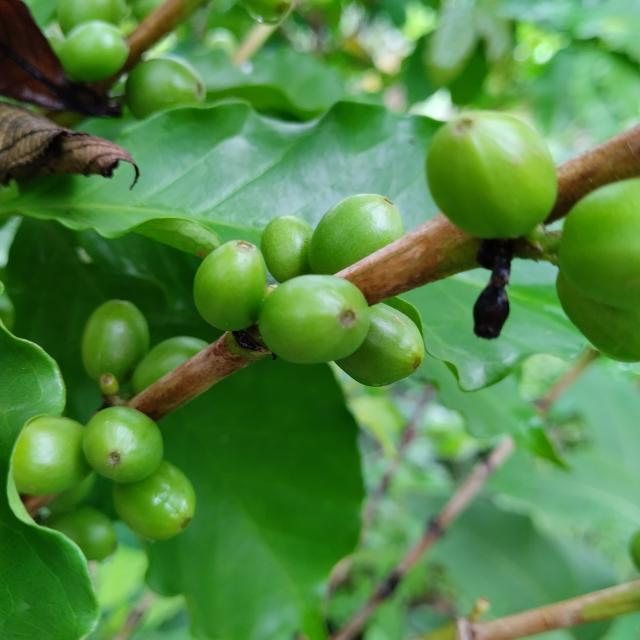green: (427, 110, 558, 238), (560, 178, 640, 309), (258, 275, 370, 364), (309, 193, 404, 274), (336, 303, 425, 387), (557, 272, 640, 362), (193, 240, 266, 331), (112, 461, 195, 541), (12, 416, 90, 496), (82, 406, 163, 483), (82, 406, 163, 483), (81, 299, 149, 383), (131, 336, 208, 394), (261, 215, 314, 283)
